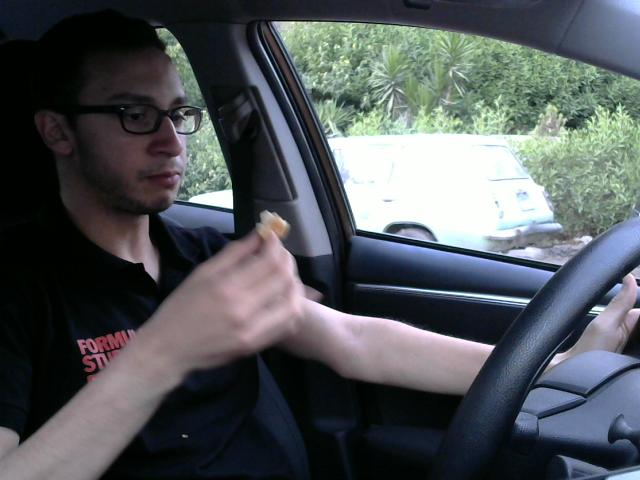Eating: (242, 199, 295, 244)
